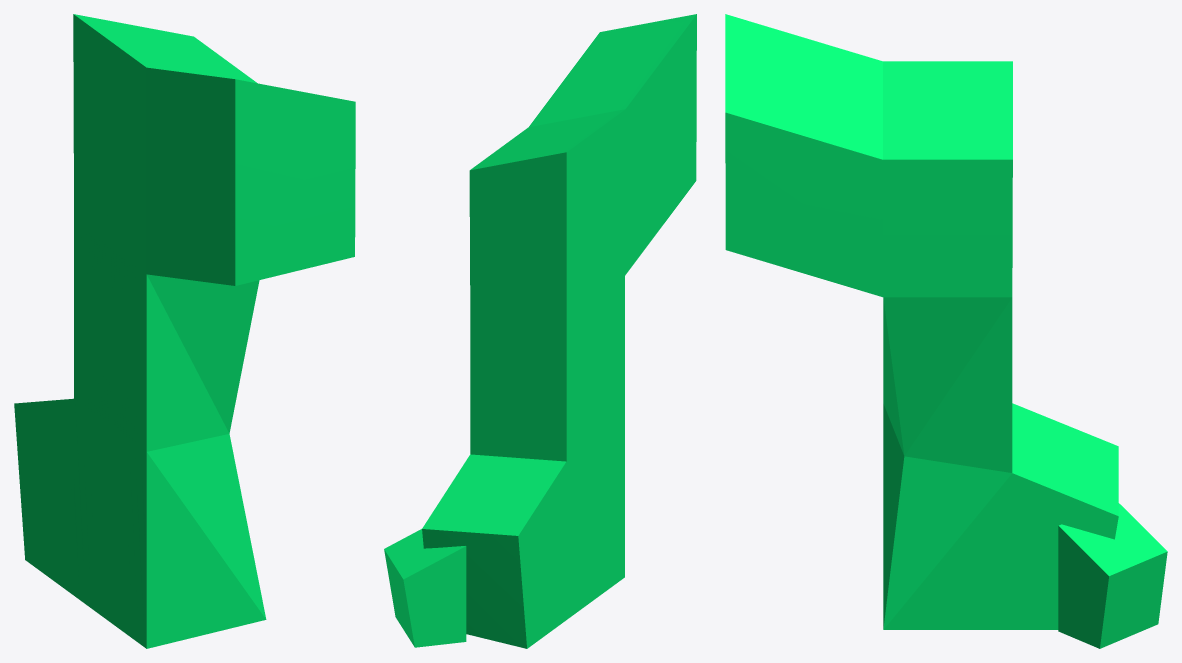
Rendered from Ruins4_Collision.FBX.
The picture shows the model from 3 angles, left to right: view 1: azimuth 30°, elevation 25°; view 2: azimuth 150°, elevation 25°; view 3: azimuth 270°, elevation 25°; orthographic projection. The views are drawn at different scales.
Visible parts, largest first — view 1: Ruins4_Collision; view 2: Ruins4_Collision; view 3: Ruins4_Collision.
Part boxes in pixels (x1,y1,x2,y2): Ruins4_Collision: (14, 14, 355, 648); Ruins4_Collision: (384, 14, 696, 648); Ruins4_Collision: (725, 14, 1167, 648).
Bounding box in the file's own units: 3.81 × 13.37 × 9.5.
